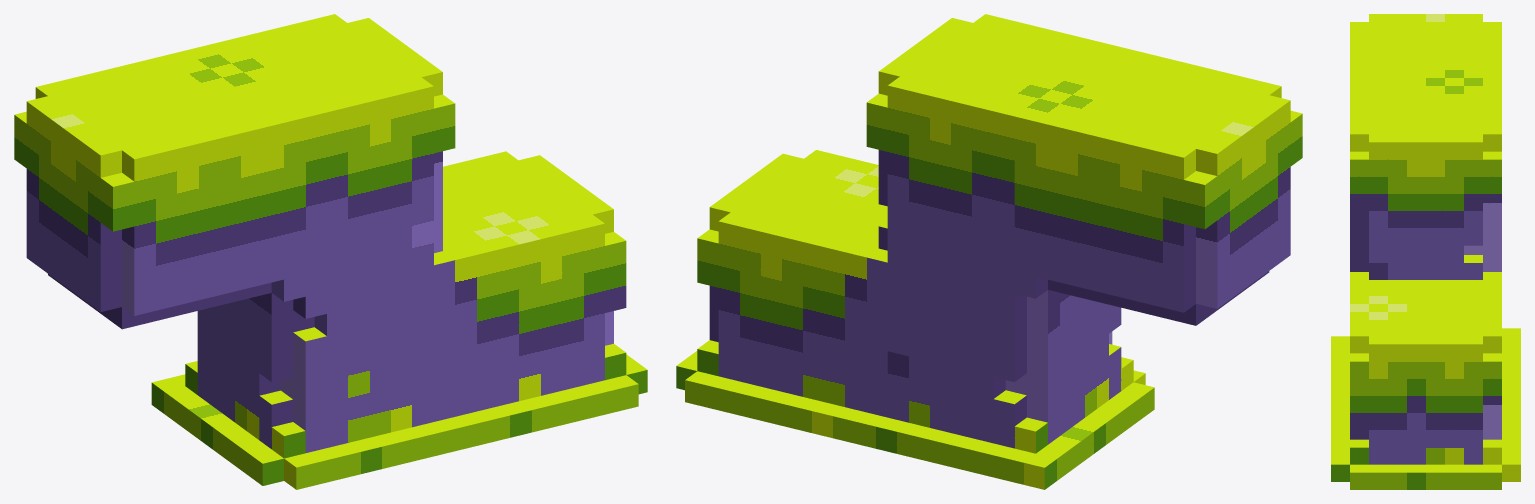
Rendered from zu_zao.fezao.glb.
3 renders of one model, left to right at view 1: azimuth 30°, elevation 25°; view 2: azimuth 150°, elevation 25°; view 3: azimuth 270°, elevation 25°, orthographic. The views are drawn at different scales.
Visible parts, largest first — view 1: ZU_zAO; view 2: ZU_zAO; view 3: ZU_zAO.
Boxes of the visible parts, left/top/right/bottom form: ZU_zAO: left=14, top=14, right=647, bottom=489; ZU_zAO: left=676, top=14, right=1302, bottom=489; ZU_zAO: left=1331, top=14, right=1520, bottom=489.
Size of the model in its own units: 1.56 by 1 by 0.625.
1 material, 1 textured.
